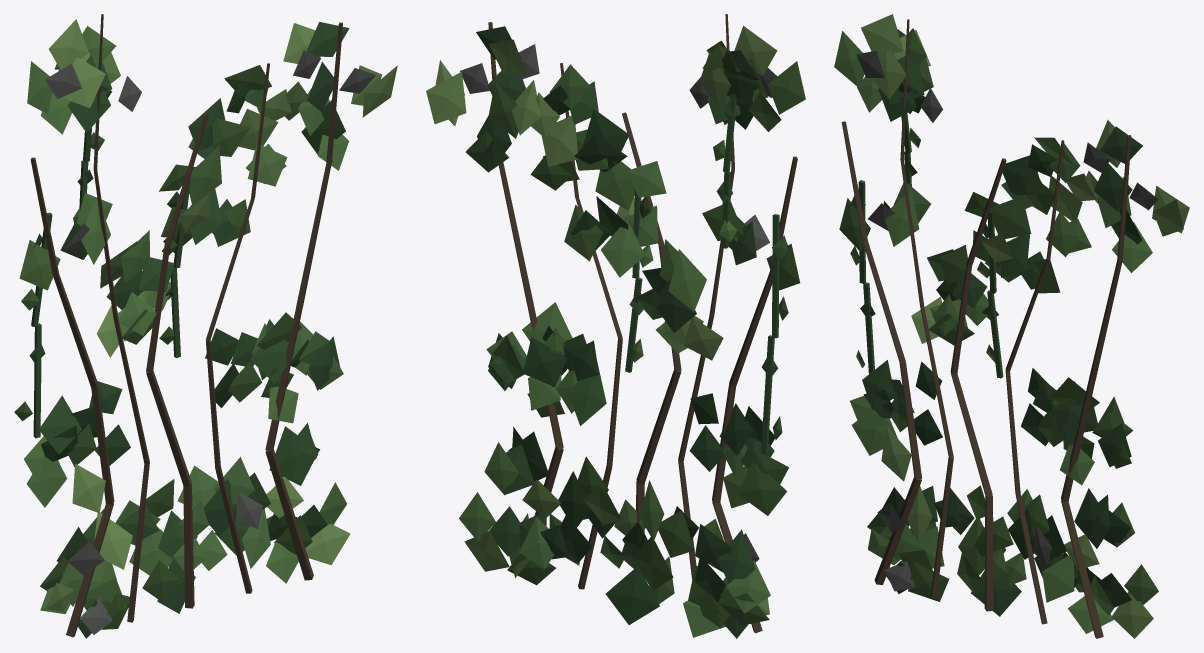
The model's file is vine_wall_s.glb.
The picture shows the model from 3 angles, left to right: view 1: azimuth 30°, elevation 25°; view 2: azimuth 150°, elevation 25°; view 3: azimuth 330°, elevation 25°; orthographic projection. The views are drawn at different scales.
Visible parts, largest first — view 1: vine_wall_s; view 2: vine_wall_s; view 3: vine_wall_s.
Boxes of the visible parts, x1=… form: vine_wall_s: x1=14, y1=14, x2=397, y2=638; vine_wall_s: x1=426, y1=14, x2=805, y2=638; vine_wall_s: x1=834, y1=14, x2=1189, y2=638.
Size of the model in its own units: 2.46 by 3.99 by 0.2792.
1 material, 1 textured.
